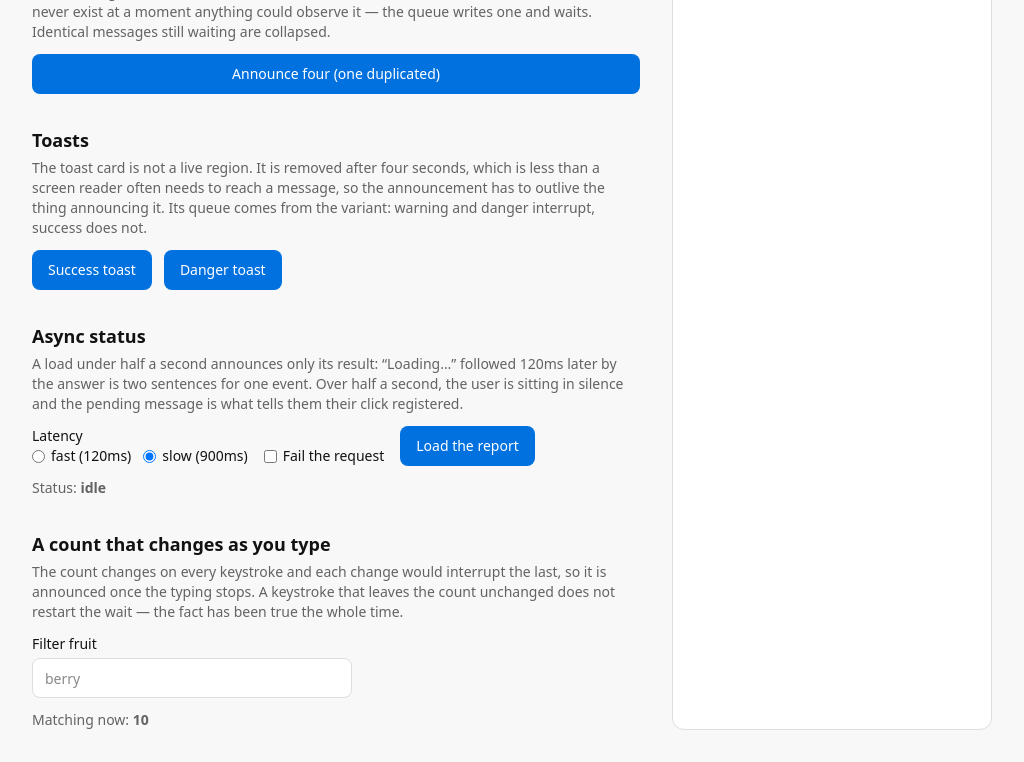
Test: <LiveRegionsLabPage> › announces the filter count once typing stops
(page scrolled)
In the field with test id "filter-input": (192, 678) x1=32 y1=658 x2=352 y2=698, type "b"
Wait 499 ms
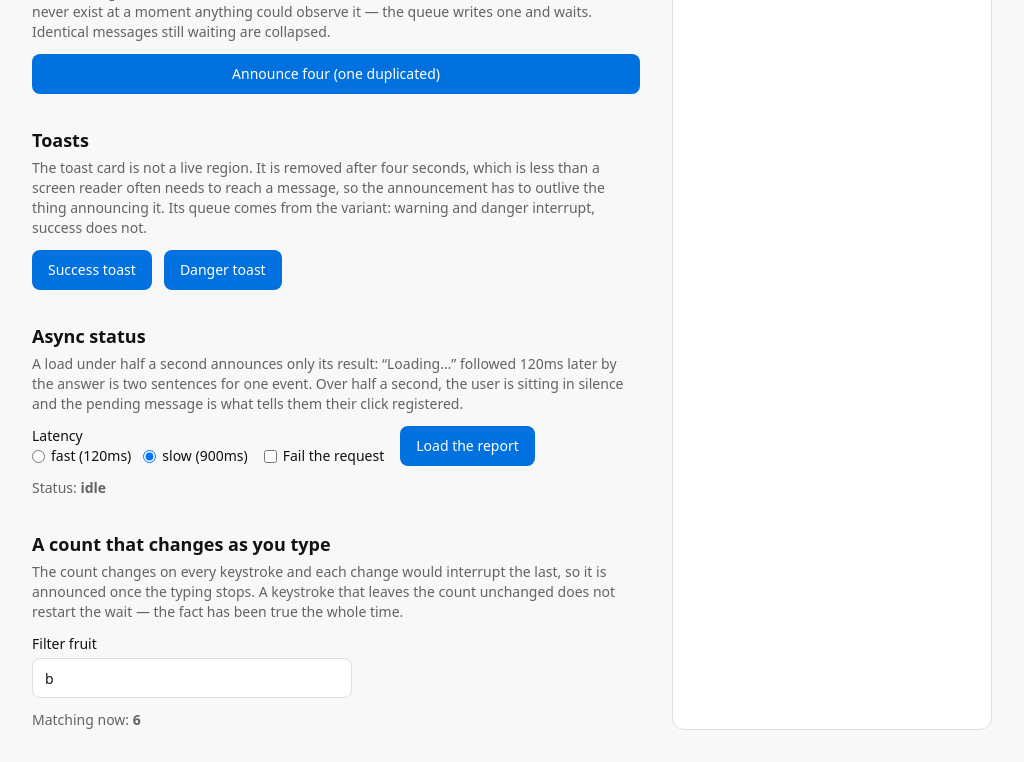
Replace the text in the field with test id "filter-input" with "bl": (192, 678) x1=32 y1=658 x2=352 y2=698
Wait 499 ms
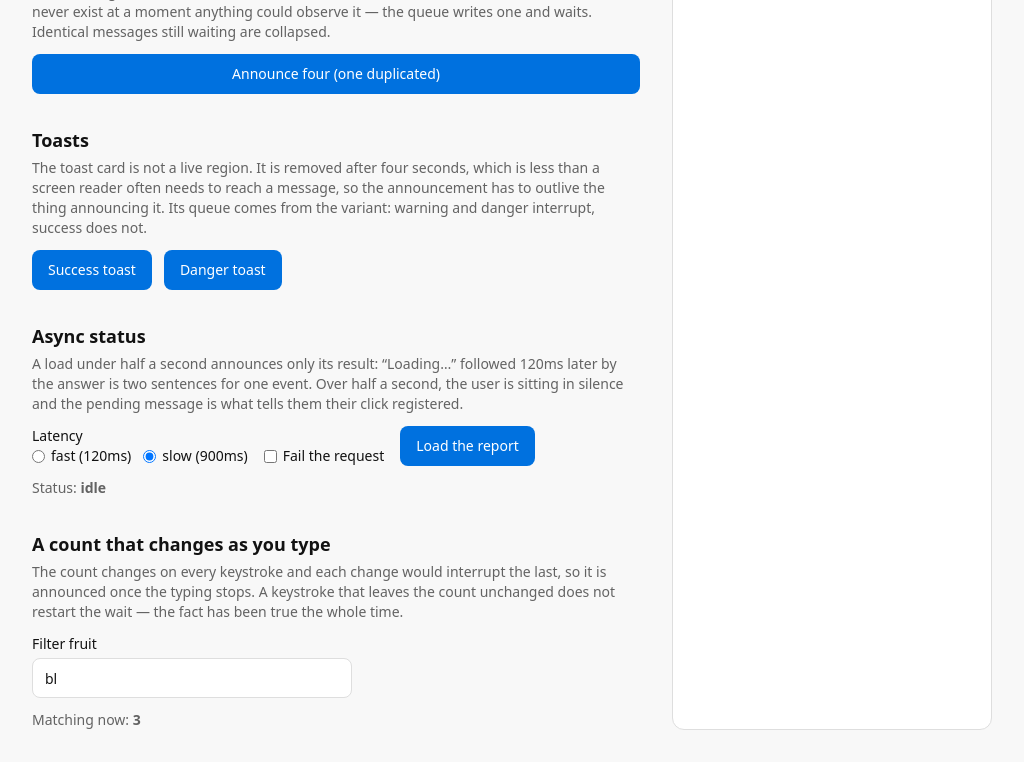
Replace the text in the field with test id "filter-input" with "blu": (192, 678) x1=32 y1=658 x2=352 y2=698
Wait 500 ms
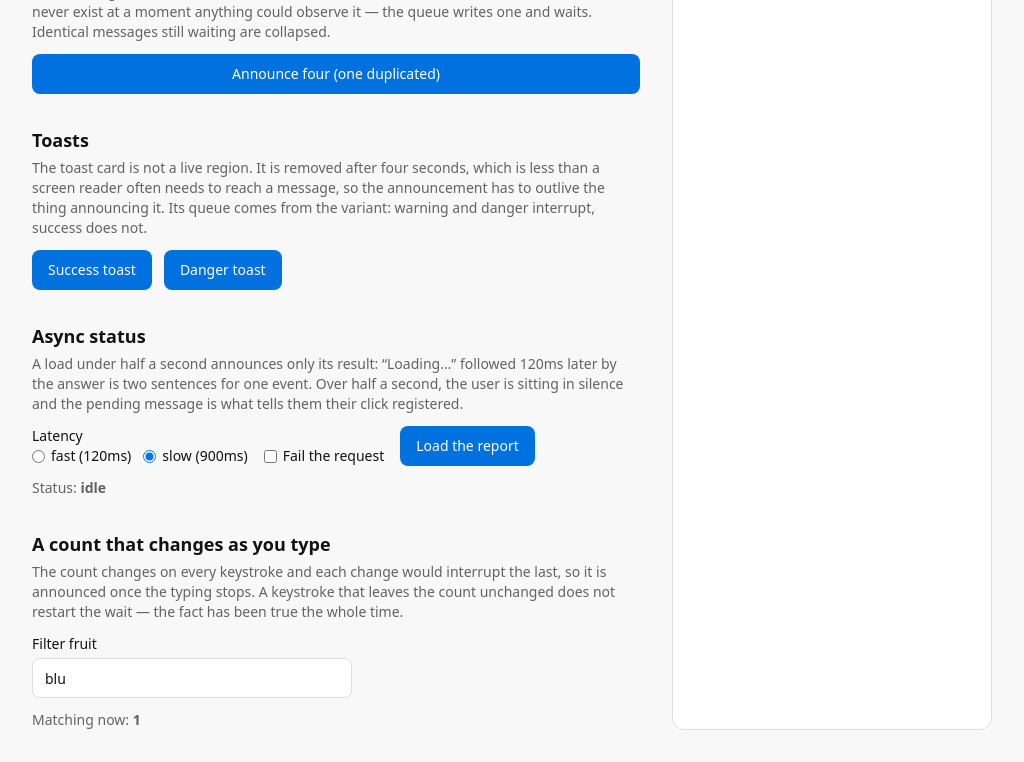
Check: the text with test id "match-count" reads "1", box x1=133 y1=710 x2=141 y2=729
